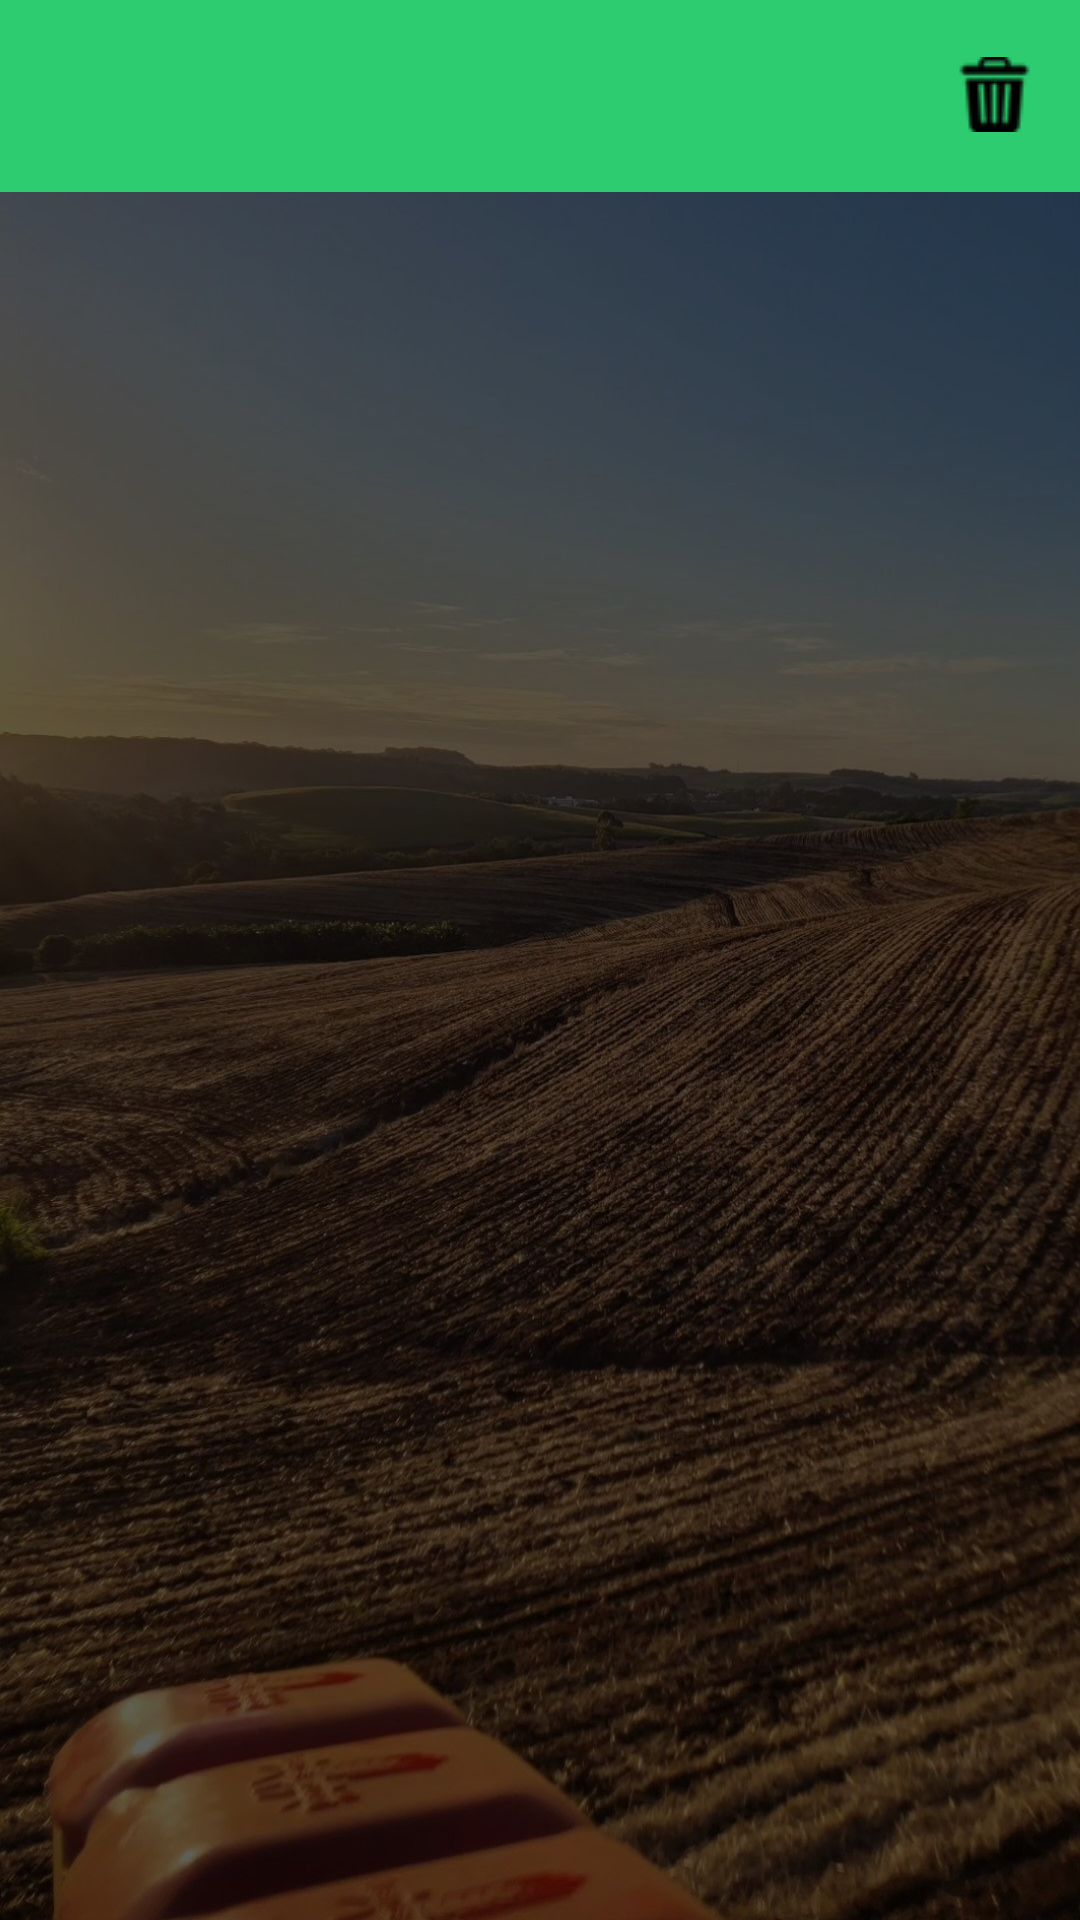

Named icons in this screenshot (1080 × 1920) and their bounding boxes, (x1, y1, x2, y2):
trash: (959, 57, 1030, 132)
